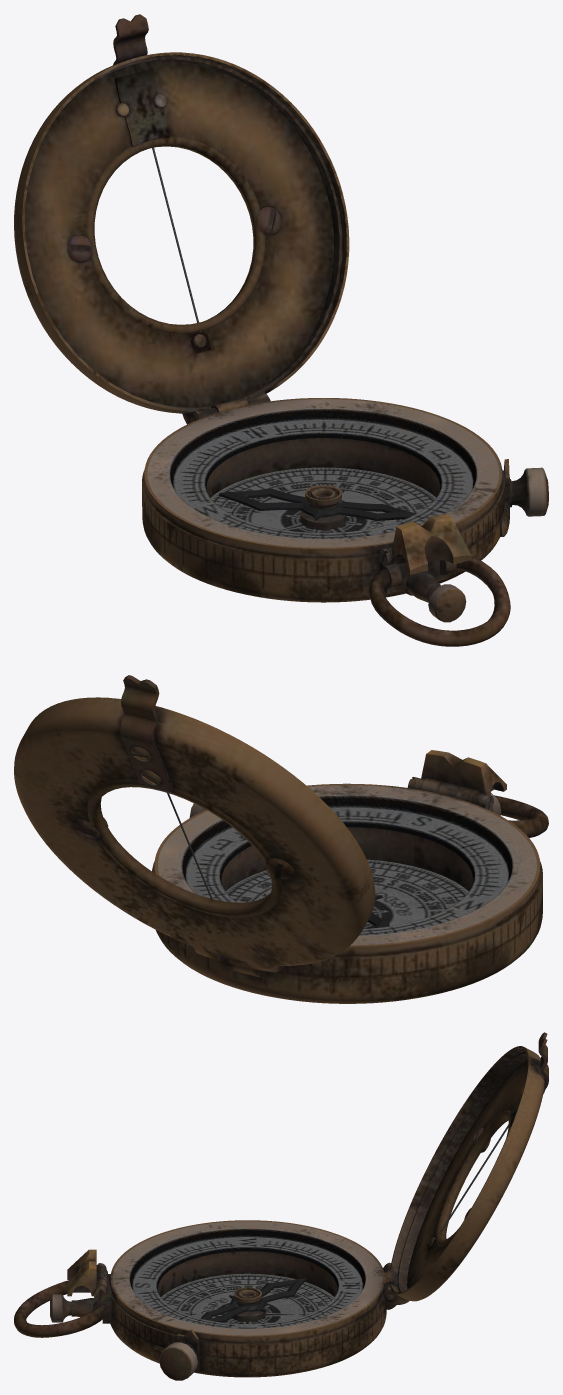
The model's file is boussole.glb.
3 renders of one model, top to bottom at view 1: azimuth 30°, elevation 25°; view 2: azimuth 150°, elevation 25°; view 3: azimuth 270°, elevation 25°, orthographic. The views are drawn at different scales.
Visible parts, largest first — view 1: seadogs_compass; view 2: seadogs_compass; view 3: seadogs_compass.
Boxes of the visible parts, x1,y1,x2,y2 form: seadogs_compass: [14, 14, 548, 646]; seadogs_compass: [14, 675, 548, 1003]; seadogs_compass: [14, 1032, 548, 1380].
Size of the model in its own units: 0.0813 by 0.0866 by 0.1441.
1 material, 1 textured.
